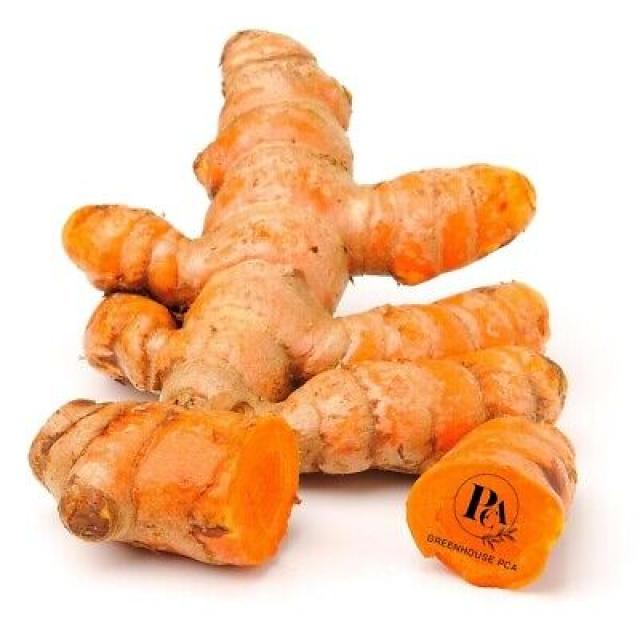turmeric: (40, 9, 570, 391), (5, 381, 322, 607), (400, 398, 578, 596)
